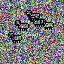sheep: (7, 31, 23, 44), (14, 19, 29, 32), (29, 16, 46, 27), (26, 9, 40, 21), (40, 19, 54, 30)
